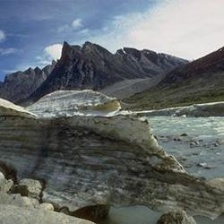neutral: (3, 11, 224, 203)
